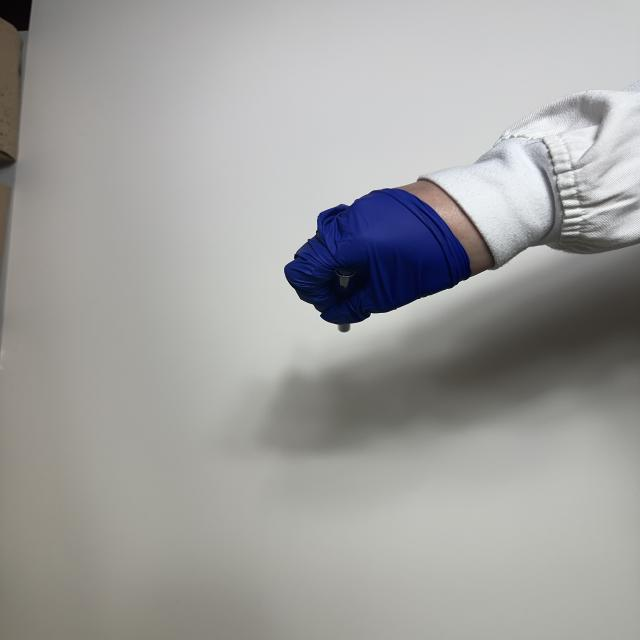glove_partial: (282, 174, 499, 327)
